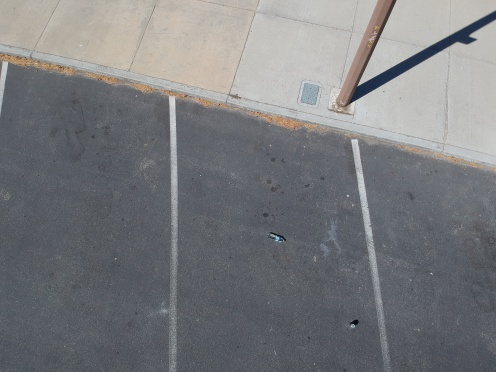bottle: (262, 230, 286, 246)
can: (347, 320, 358, 329)
